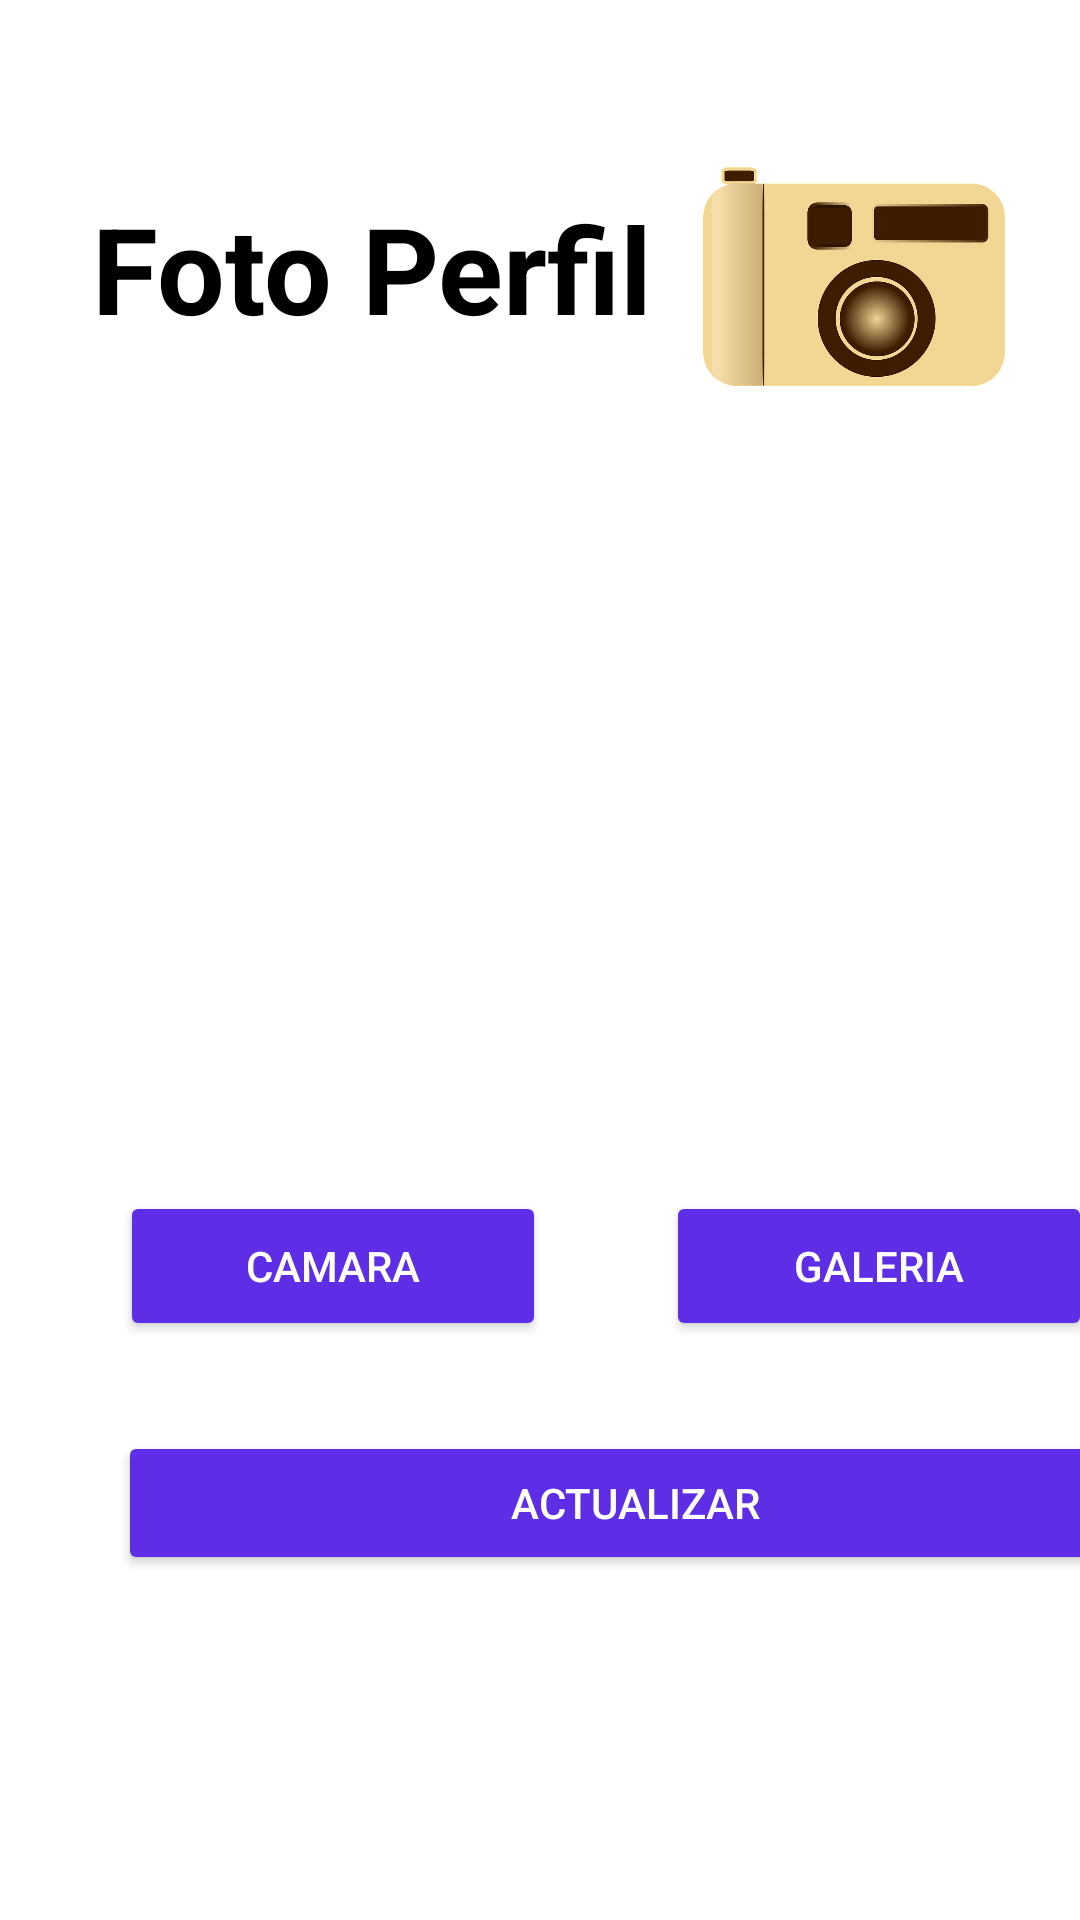

Icon bounding boxes for this 1080 x 1920 phone screenshot, format (x1, y1, x2, y2):
camara: (703, 167, 1005, 386)
